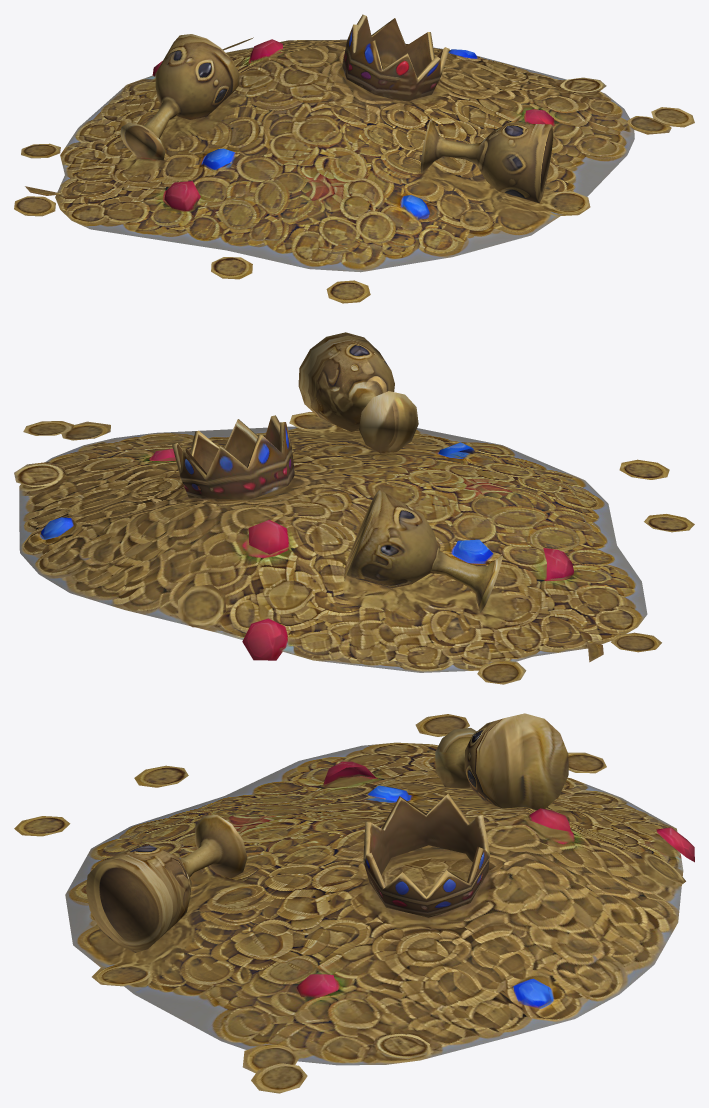
Rendered from oro.fbx.
3 views of the same model, one above another, from view 1: azimuth 30°, elevation 25°; view 2: azimuth 150°, elevation 25°; view 3: azimuth 270°, elevation 25° (orthographic). The views are drawn at different scales.
Visible parts, largest first — view 1: tripo_node_85e62e3b; view 2: tripo_node_85e62e3b; view 3: tripo_node_85e62e3b.
Boxes of the visible parts, x1,y1,x2,y2 form: tripo_node_85e62e3b: [14, 14, 694, 303]; tripo_node_85e62e3b: [14, 332, 694, 684]; tripo_node_85e62e3b: [14, 713, 694, 1093].
Bounding box in the file's own units: 0.9995 × 0.1724 × 0.772.
Materials: 1 (1 with a texture image).
